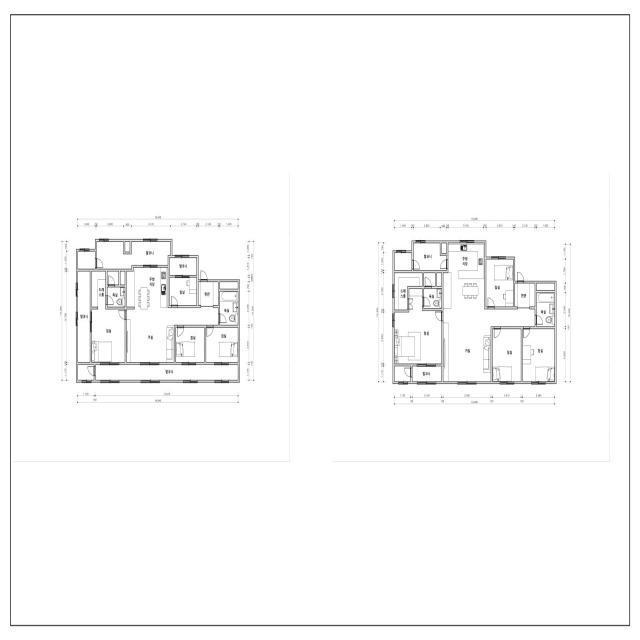space_balconi: (96, 365, 238, 380), (97, 242, 171, 269), (78, 271, 90, 362), (414, 243, 447, 270), (170, 258, 197, 275), (412, 366, 442, 381)
space_bedroom: (395, 289, 442, 364), (92, 309, 125, 362), (523, 329, 555, 381), (493, 329, 521, 382), (486, 259, 513, 307), (206, 328, 238, 362), (176, 327, 204, 362), (170, 278, 197, 305)
space_dressroom: (394, 273, 422, 310), (92, 271, 106, 309)
space_front: (515, 283, 535, 308), (198, 282, 218, 306)
space_kitchen: (443, 243, 485, 309), (127, 268, 168, 308)
space_living_room: (443, 308, 535, 381), (127, 307, 218, 362)
space_other: (394, 253, 412, 270), (78, 251, 95, 269), (394, 366, 411, 381), (78, 365, 94, 380), (537, 283, 555, 290), (220, 282, 238, 289), (120, 271, 125, 285), (437, 273, 441, 286), (125, 242, 130, 252), (442, 243, 446, 253)
space_toilet: (537, 293, 555, 327), (220, 291, 238, 325), (107, 287, 125, 307), (424, 289, 442, 308), (107, 271, 119, 285), (424, 273, 435, 286)
